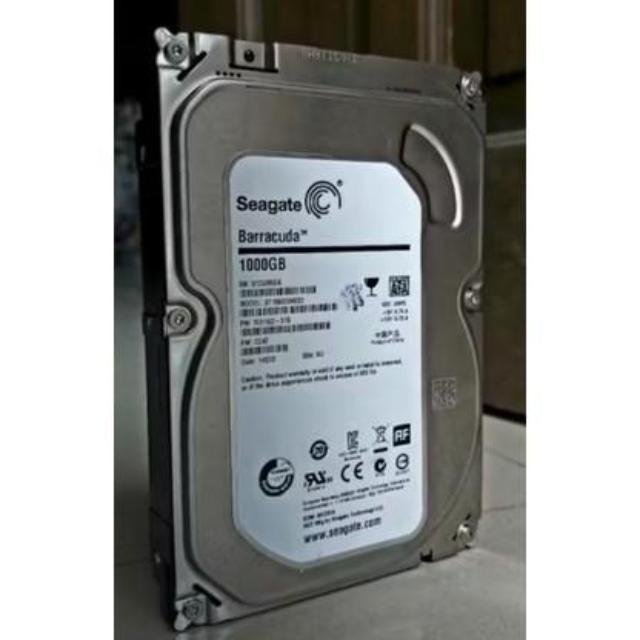DISK: (124, 21, 487, 636)
